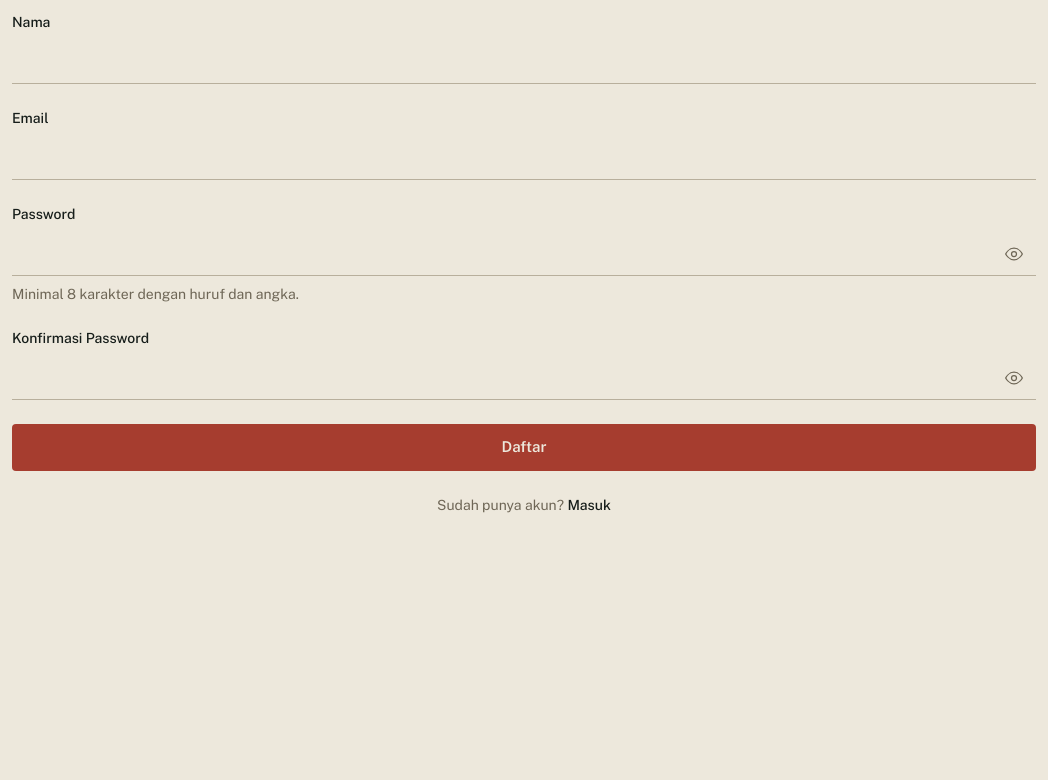
Test: RegisterForm › shows inline validation errors on empty submit
Step 1. Click the button "Daftar" → (524, 447), box [12,424,1036,470]
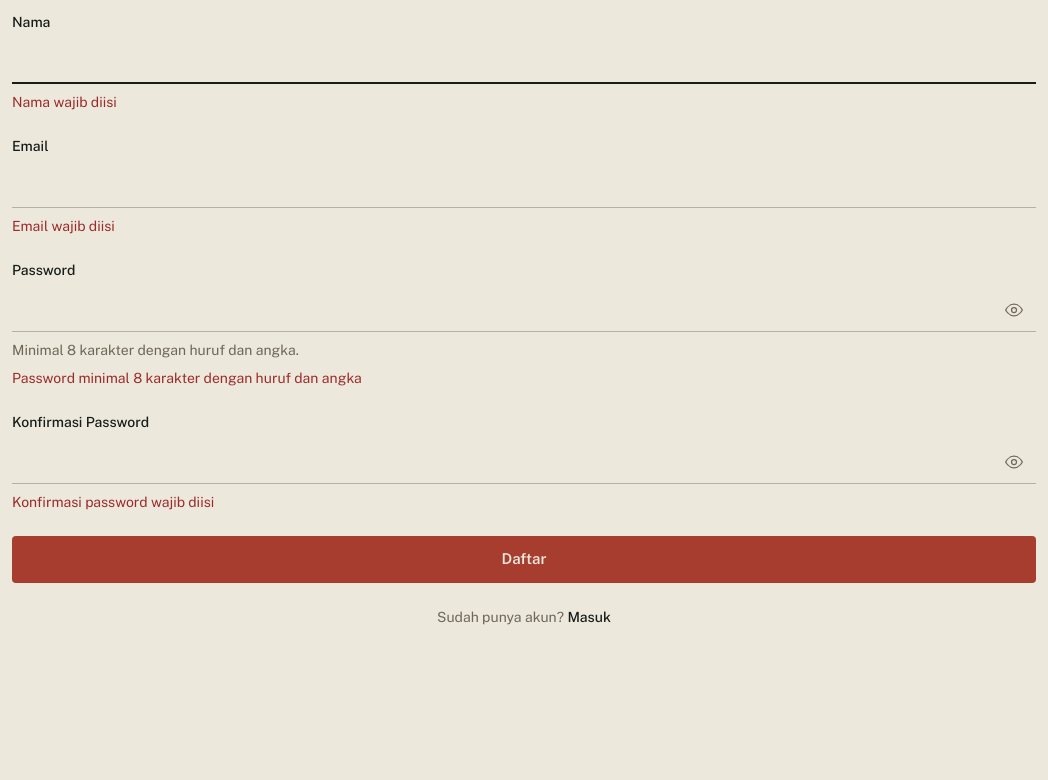
Result: the text "Nama wajib diisi" is shown at [12,94,117,110]
Result: the text "Email wajib diisi" is shown at [12,218,115,234]
Result: the text "Password minimal 8 karakter dengan huruf dan angka" is shown at [12,370,362,386]
